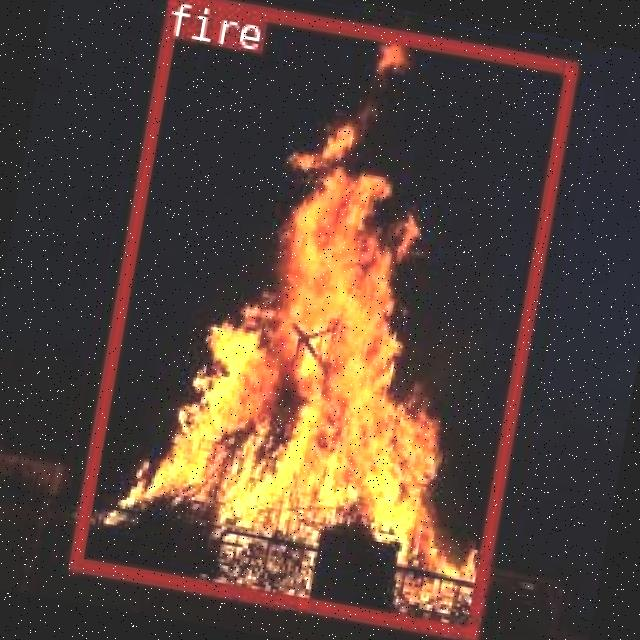fire: (66, 0, 575, 636)
